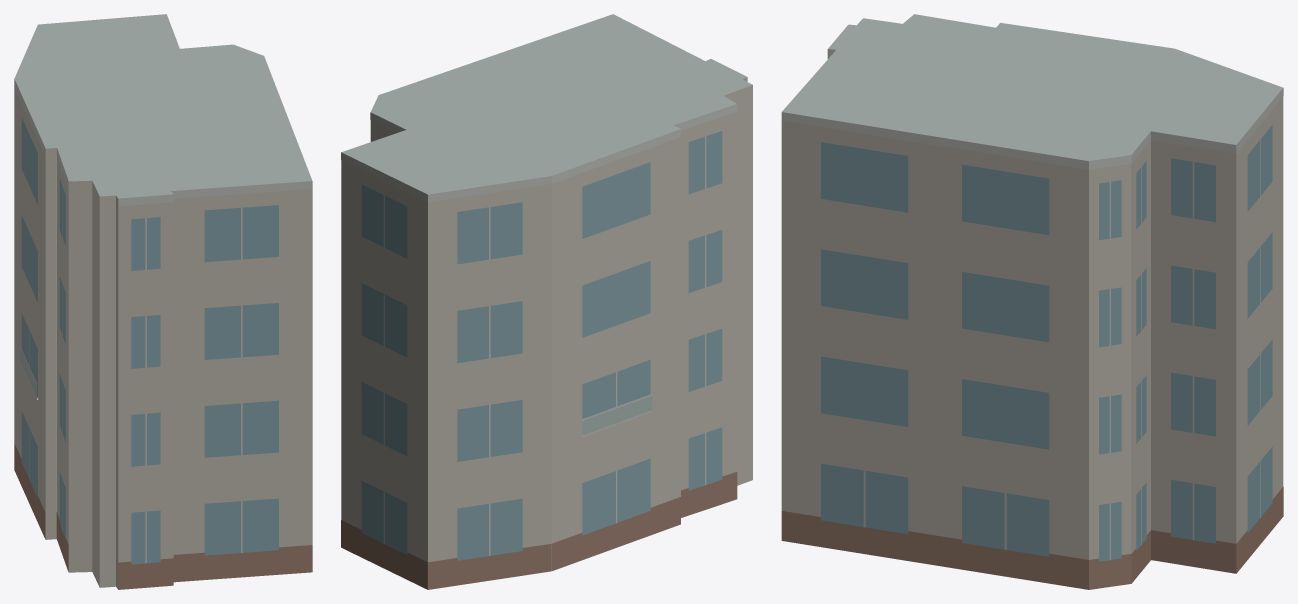
Rendered from survey-upis-32470767.glb.
The picture shows the model from 3 angles, left to right: view 1: azimuth 30°, elevation 25°; view 2: azimuth 150°, elevation 25°; view 3: azimuth 270°, elevation 25°; orthographic projection. The views are drawn at different scales.
Parts seen in each view (by area): view 1: survey-upis-32470767.tmp; view 2: survey-upis-32470767.tmp; view 3: survey-upis-32470767.tmp.
Part boxes in pixels (left/top/right/bottom): survey-upis-32470767.tmp: left=14, top=14, right=312, bottom=589; survey-upis-32470767.tmp: left=341, top=14, right=752, bottom=589; survey-upis-32470767.tmp: left=781, top=14, right=1283, bottom=589.
Size of the model in its own units: 8.99 by 12.2 by 12.95.
